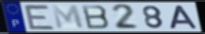2: (110, 3, 141, 31)
8: (142, 5, 166, 30)
A: (168, 5, 200, 30)
B: (81, 4, 112, 30)
E: (22, 4, 57, 31)
M: (51, 5, 87, 30)
